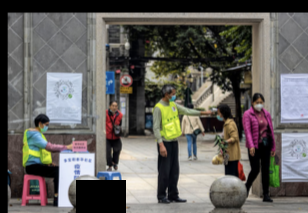mask_weared_incorrect: (110, 102, 117, 111)
with_mask: (252, 98, 263, 110), (168, 89, 177, 102), (215, 109, 223, 120), (40, 122, 48, 132)
